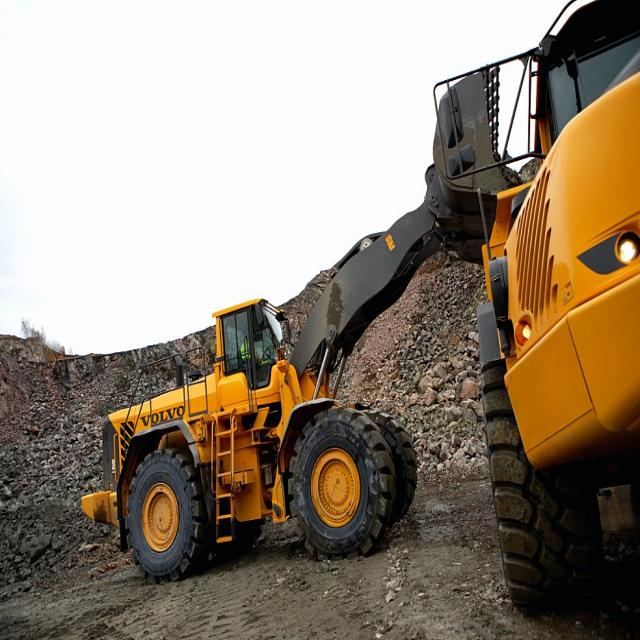buldozerpayloadergrader: (75, 268, 420, 580)
